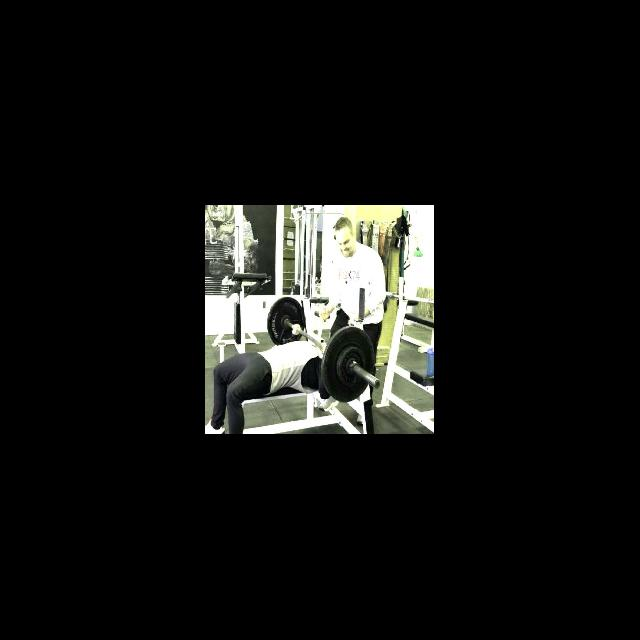barbell: (320, 326, 380, 403)
